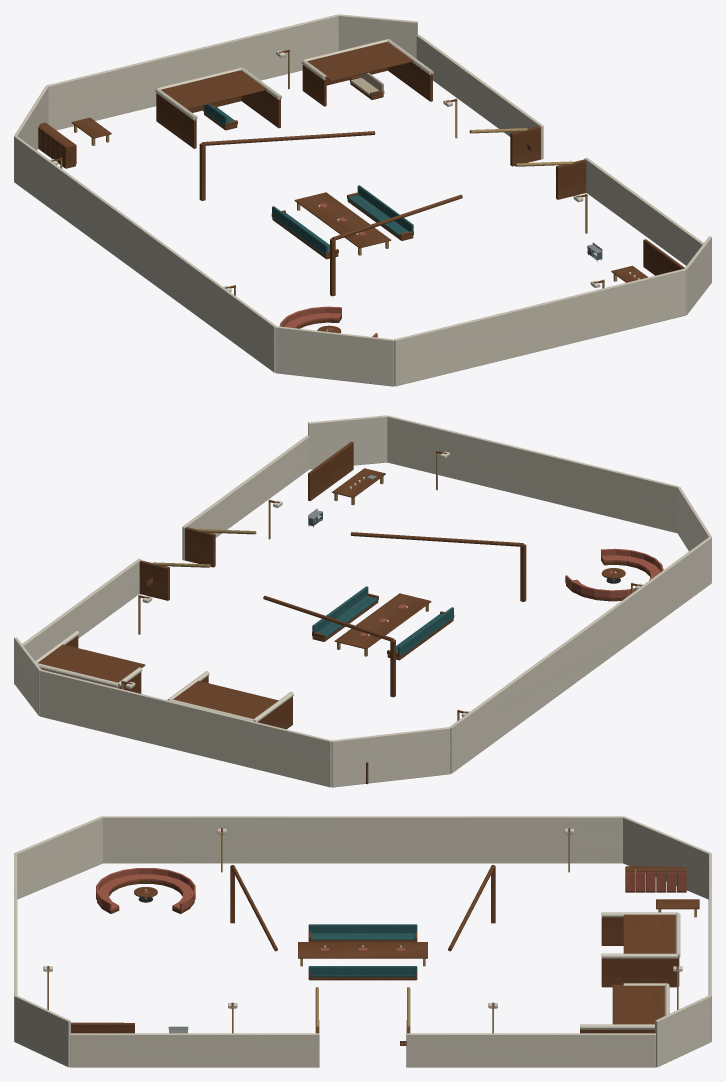
Rendered from SOL_D11_directory_09_remaining_batch.glb.
3 views of the same model, one above another, from view 1: azimuth 30°, elevation 25°; view 2: azimuth 150°, elevation 25°; view 3: azimuth 270°, elevation 25° (orthographic).
Visible parts, largest first — view 1: D11_directory_09__outer_return_5, D11_directory_09__outer_return_3, D11_directory_09__outer_return_1, D11_directory_09__outer_return_4, D11_directory_09__mouth_fore, D11_directory_09__mouth_aft, D11_directory_09__outer_return_0, D11_directory_09__quiet_first_ceiling, D11_directory_09__quiet_second_ceiling, D11_directory_09__ensemble_table_top, D11_directory_09__outer_return_6, D11_directory_09__quiet_second_wall2 (+11 smaller); view 2: D11_directory_09__outer_return_1, D11_directory_09__outer_return_5, D11_directory_09__outer_return_3, D11_directory_09__outer_return_2, D11_directory_09__mouth_fore, D11_directory_09__mouth_aft, D11_directory_09__outer_return_6, D11_directory_09__quiet_first_ceiling, D11_directory_09__quiet_second_ceiling, D11_directory_09__ensemble_table_top, D11_directory_09__refreshment_back, D11_directory_09__outer_return_0 (+9 smaller); view 3: D11_directory_09__outer_return_3, D11_directory_09__mouth_fore, D11_directory_09__mouth_aft, D11_directory_09__outer_return_4, D11_directory_09__outer_return_2, D11_directory_09__outer_return_0, D11_directory_09__outer_return_6, D11_directory_09__ensemble_table_top, D11_directory_09__quiet_second_ceiling, D11_directory_09__quiet_first_ceiling, D11_directory_09__quiet_second_wall0, D11_directory_09__shared_left_back (+14 smaller).
Boxes of the visible parts, left/top/right/bottom form: D11_directory_09__outer_return_5: left=394, top=268, right=686, bottom=386; D11_directory_09__outer_return_3: left=14, top=136, right=276, bottom=372; D11_directory_09__outer_return_1: left=46, top=14, right=338, bottom=130; D11_directory_09__outer_return_4: left=275, top=326, right=394, bottom=386; D11_directory_09__mouth_fore: left=584, top=157, right=703, bottom=265; D11_directory_09__mouth_aft: left=416, top=34, right=543, bottom=159; D11_directory_09__outer_return_0: left=338, top=14, right=417, bottom=58; D11_directory_09__quiet_first_ceiling: left=307, top=41, right=413, bottom=81; D11_directory_09__quiet_second_ceiling: left=161, top=70, right=266, bottom=109; D11_directory_09__ensemble_table_top: left=294, top=192, right=391, bottom=248; D11_directory_09__outer_return_6: left=684, top=236, right=711, bottom=314; D11_directory_09__quiet_second_wall2: left=156, top=93, right=196, bottom=148; D11_directory_09__outer_return_1: left=39, top=669, right=331, bottom=787; D11_directory_09__outer_return_5: left=387, top=415, right=679, bottom=532; D11_directory_09__outer_return_3: left=449, top=537, right=711, bottom=773; D11_directory_09__outer_return_2: left=331, top=727, right=450, bottom=787; D11_directory_09__mouth_fore: left=182, top=435, right=309, bottom=560; D11_directory_09__mouth_aft: left=22, top=558, right=141, bottom=660; D11_directory_09__outer_return_6: left=308, top=415, right=387, bottom=469; D11_directory_09__quiet_first_ceiling: left=38, top=644, right=145, bottom=682; D11_directory_09__quiet_second_ceiling: left=173, top=681, right=278, bottom=718; D11_directory_09__ensemble_table_top: left=334, top=593, right=431, bottom=649; D11_directory_09__refreshment_back: left=308, top=441, right=353, bottom=500; D11_directory_09__outer_return_0: left=14, top=637, right=41, bottom=715; D11_directory_09__outer_return_3: left=102, top=816, right=623, bottom=863; D11_directory_09__mouth_fore: left=70, top=1033, right=319, bottom=1067; D11_directory_09__mouth_aft: left=406, top=1033, right=655, bottom=1067; D11_directory_09__outer_return_4: left=14, top=816, right=102, bottom=899; D11_directory_09__outer_return_2: left=623, top=816, right=711, bottom=899; D11_directory_09__outer_return_0: left=655, top=995, right=711, bottom=1067; D11_directory_09__outer_return_6: left=14, top=995, right=70, bottom=1067; D11_directory_09__ensemble_table_top: left=298, top=942, right=427, bottom=958; D11_directory_09__quiet_second_ceiling: left=623, top=914, right=675, bottom=953; D11_directory_09__quiet_first_ceiling: left=612, top=984, right=664, bottom=1024; D11_directory_09__quiet_second_wall0: left=601, top=958, right=677, bottom=987; D11_directory_09__shared_left_back: left=308, top=966, right=417, bottom=975.
Bounding box in the file's own units: 44.86 × 5.88 × 64.3.
12 materials, 12 textured.
